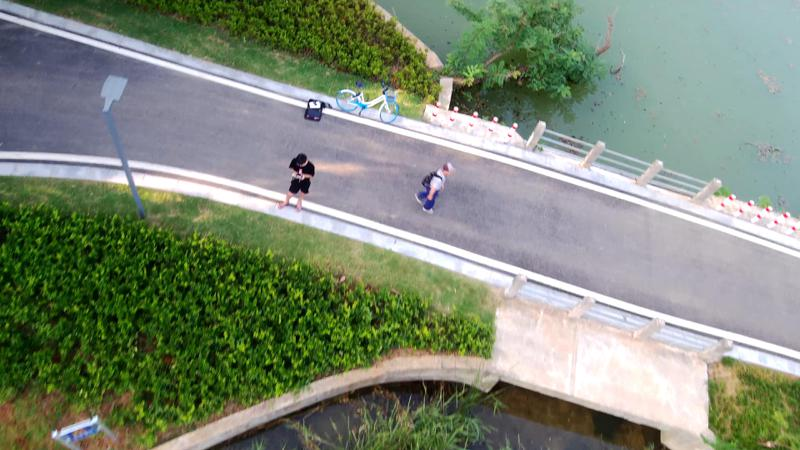passerby: (273, 150, 315, 214), (413, 161, 458, 214)
